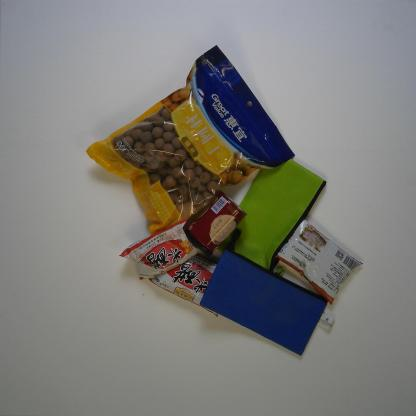Canned Food: (184, 191, 248, 257)
Dried Food: (85, 45, 296, 234)
Seasoner: (274, 219, 364, 306), (118, 218, 202, 281), (148, 255, 218, 317)
Stationery: (198, 248, 336, 357), (217, 159, 328, 276)
